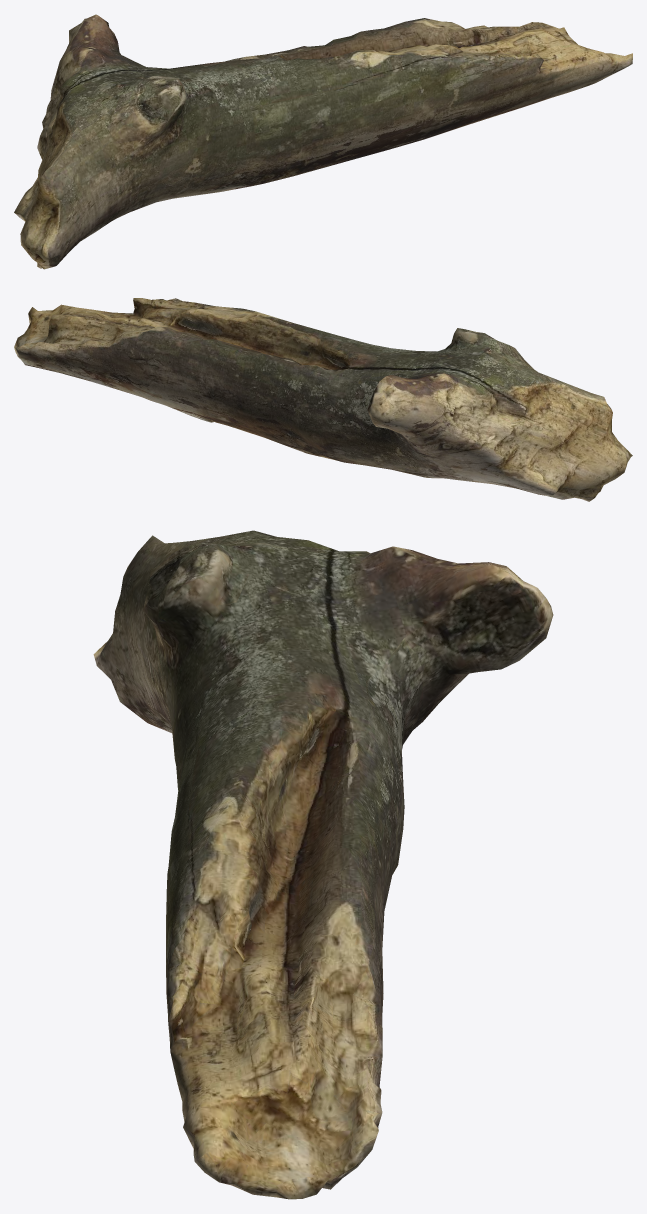
The model's file is woodStick01.gltf.
3 views of the same model, one above another, from view 1: azimuth 30°, elevation 25°; view 2: azimuth 150°, elevation 25°; view 3: azimuth 270°, elevation 25° (orthographic). The views are drawn at different scales.
Parts seen in each view (by area): view 1: stick_07_stick_07_0; view 2: stick_07_stick_07_0; view 3: stick_07_stick_07_0.
Boxes of the visible parts, x1,y1,x2,y2 form: stick_07_stick_07_0: (14,14,632,269); stick_07_stick_07_0: (14,298,632,501); stick_07_stick_07_0: (93,530,553,1199).
Bounding box in the file's own units: 10.74 × 2.64 × 3.68.
Materials: 1 (1 with a texture image).
